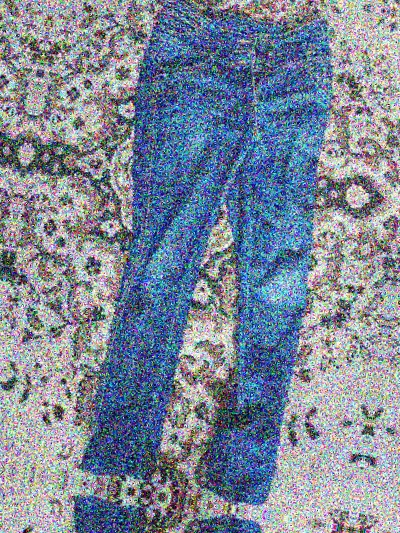Pants: (51, 0, 390, 498), (0, 502, 300, 533)
